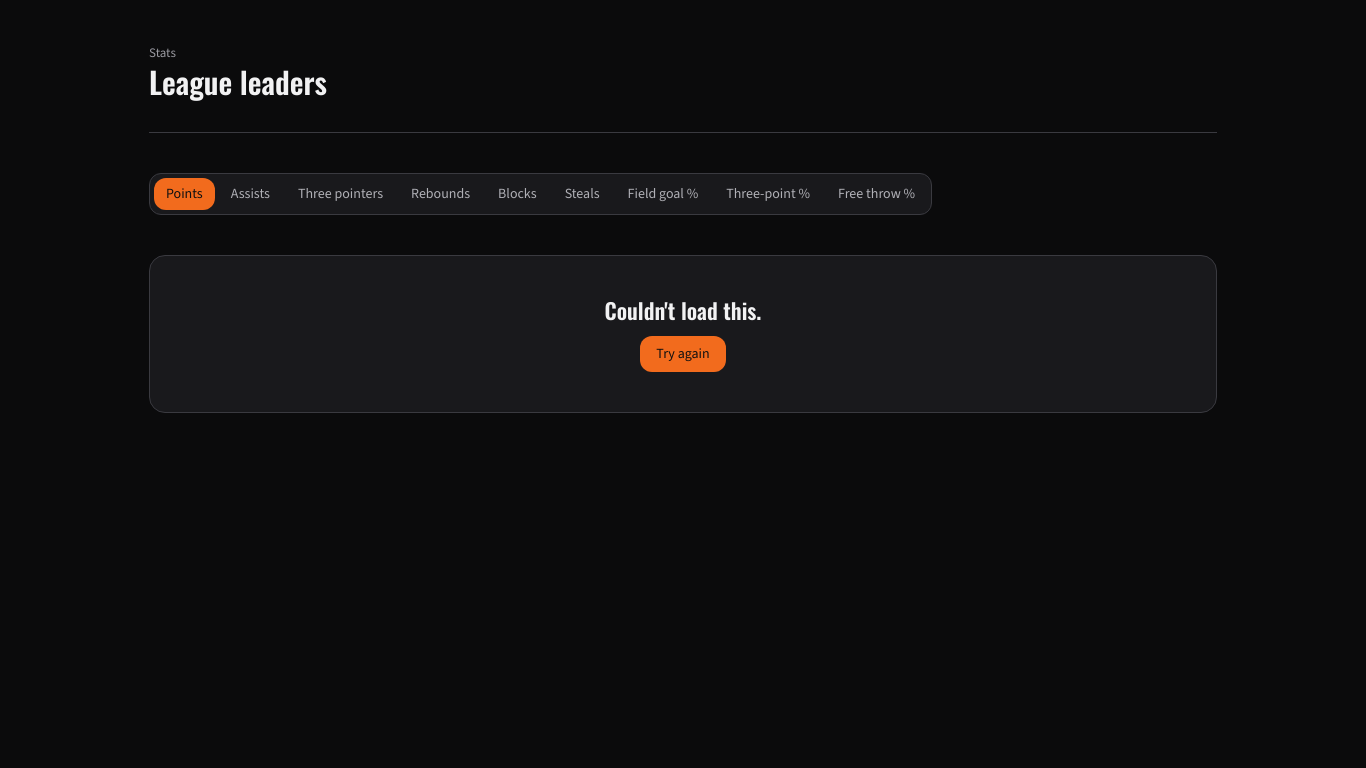
Test case: LeadersPage › a failed load offers a retry
This screenshot has width=1366, height=768.
Click the button "Try again": (683, 354) [640,336,726,372]
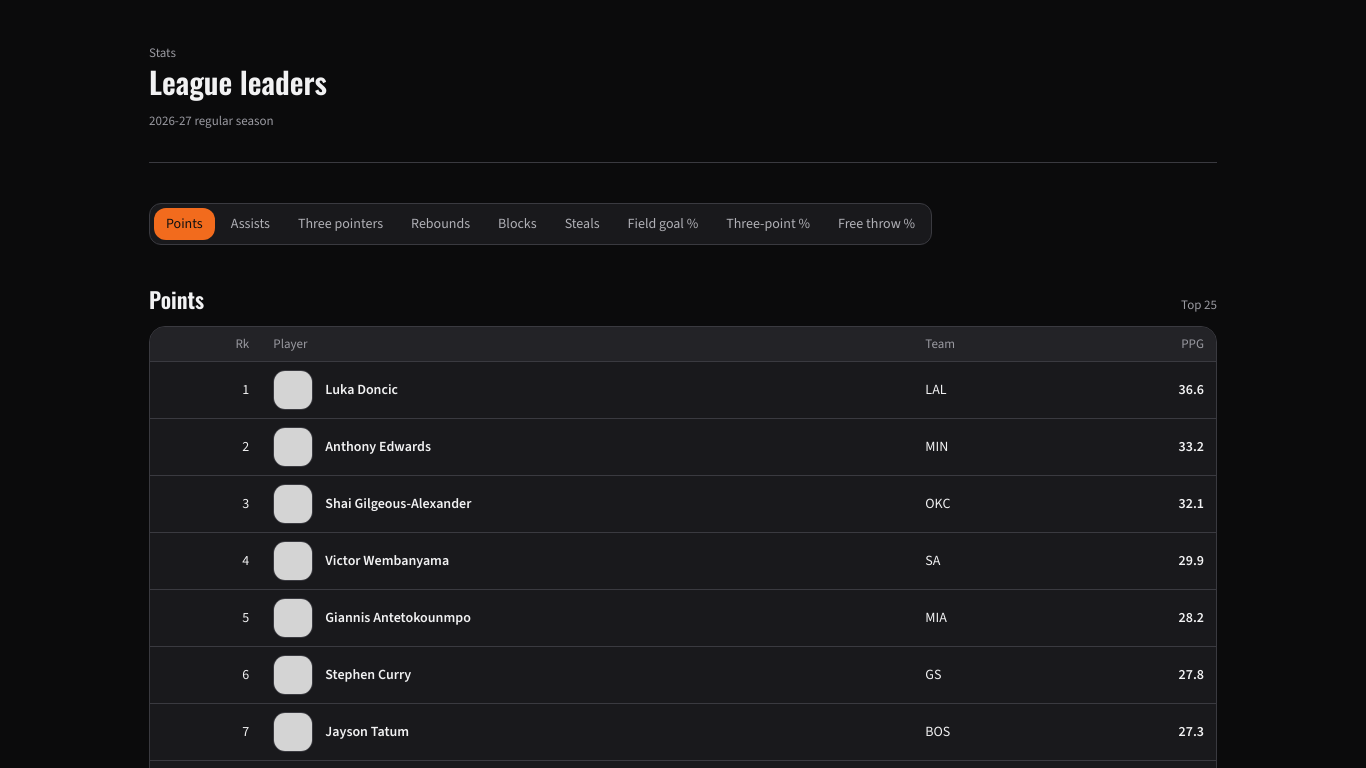
Expected: the heading "Points" is shown, [149,285,204,313]
